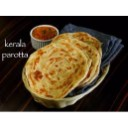parota: (23, 45, 89, 97)
